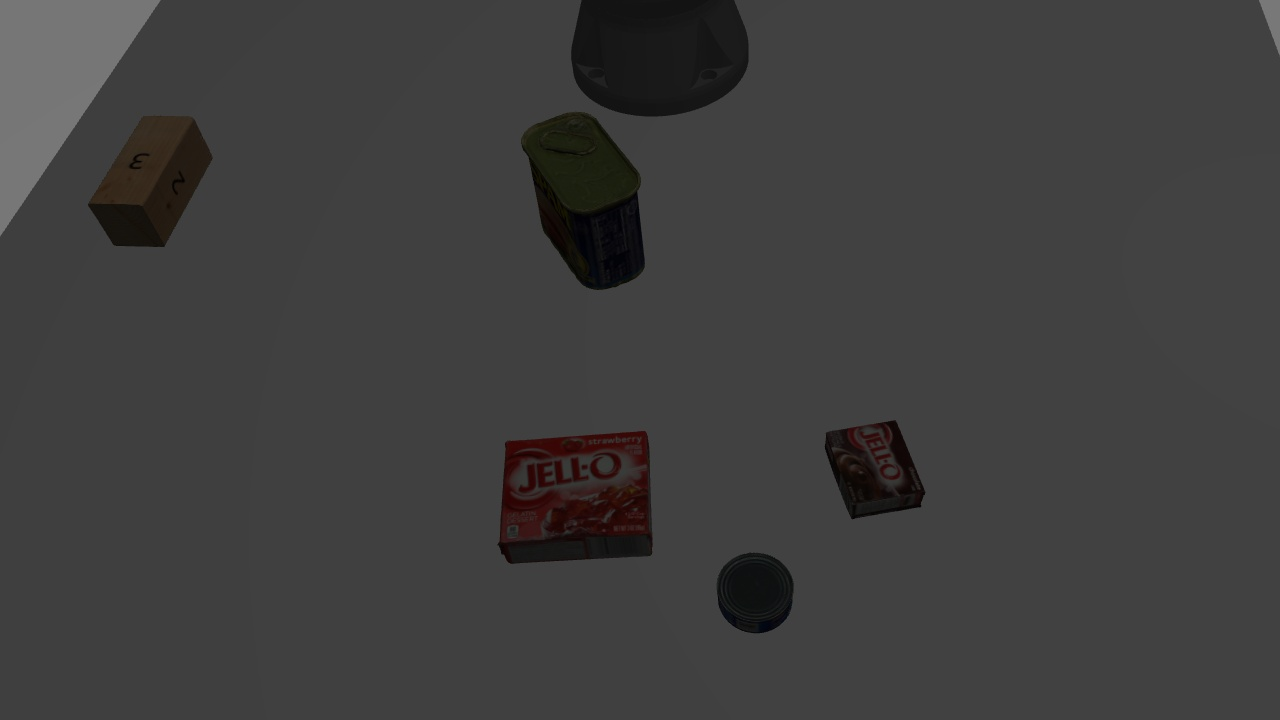gelatin_box: (492, 428, 657, 561)
potted_meat_can: (511, 108, 654, 294)
pudding_box: (817, 415, 931, 523)
tuna_fish_can: (707, 545, 799, 624)
wood_block: (83, 105, 216, 249)
